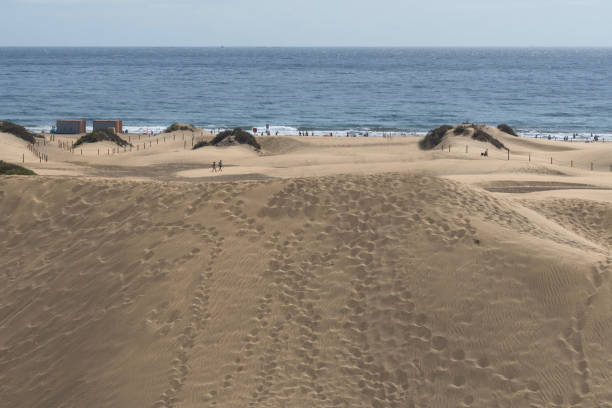human_footprint: (210, 177, 585, 407), (16, 196, 231, 398)
